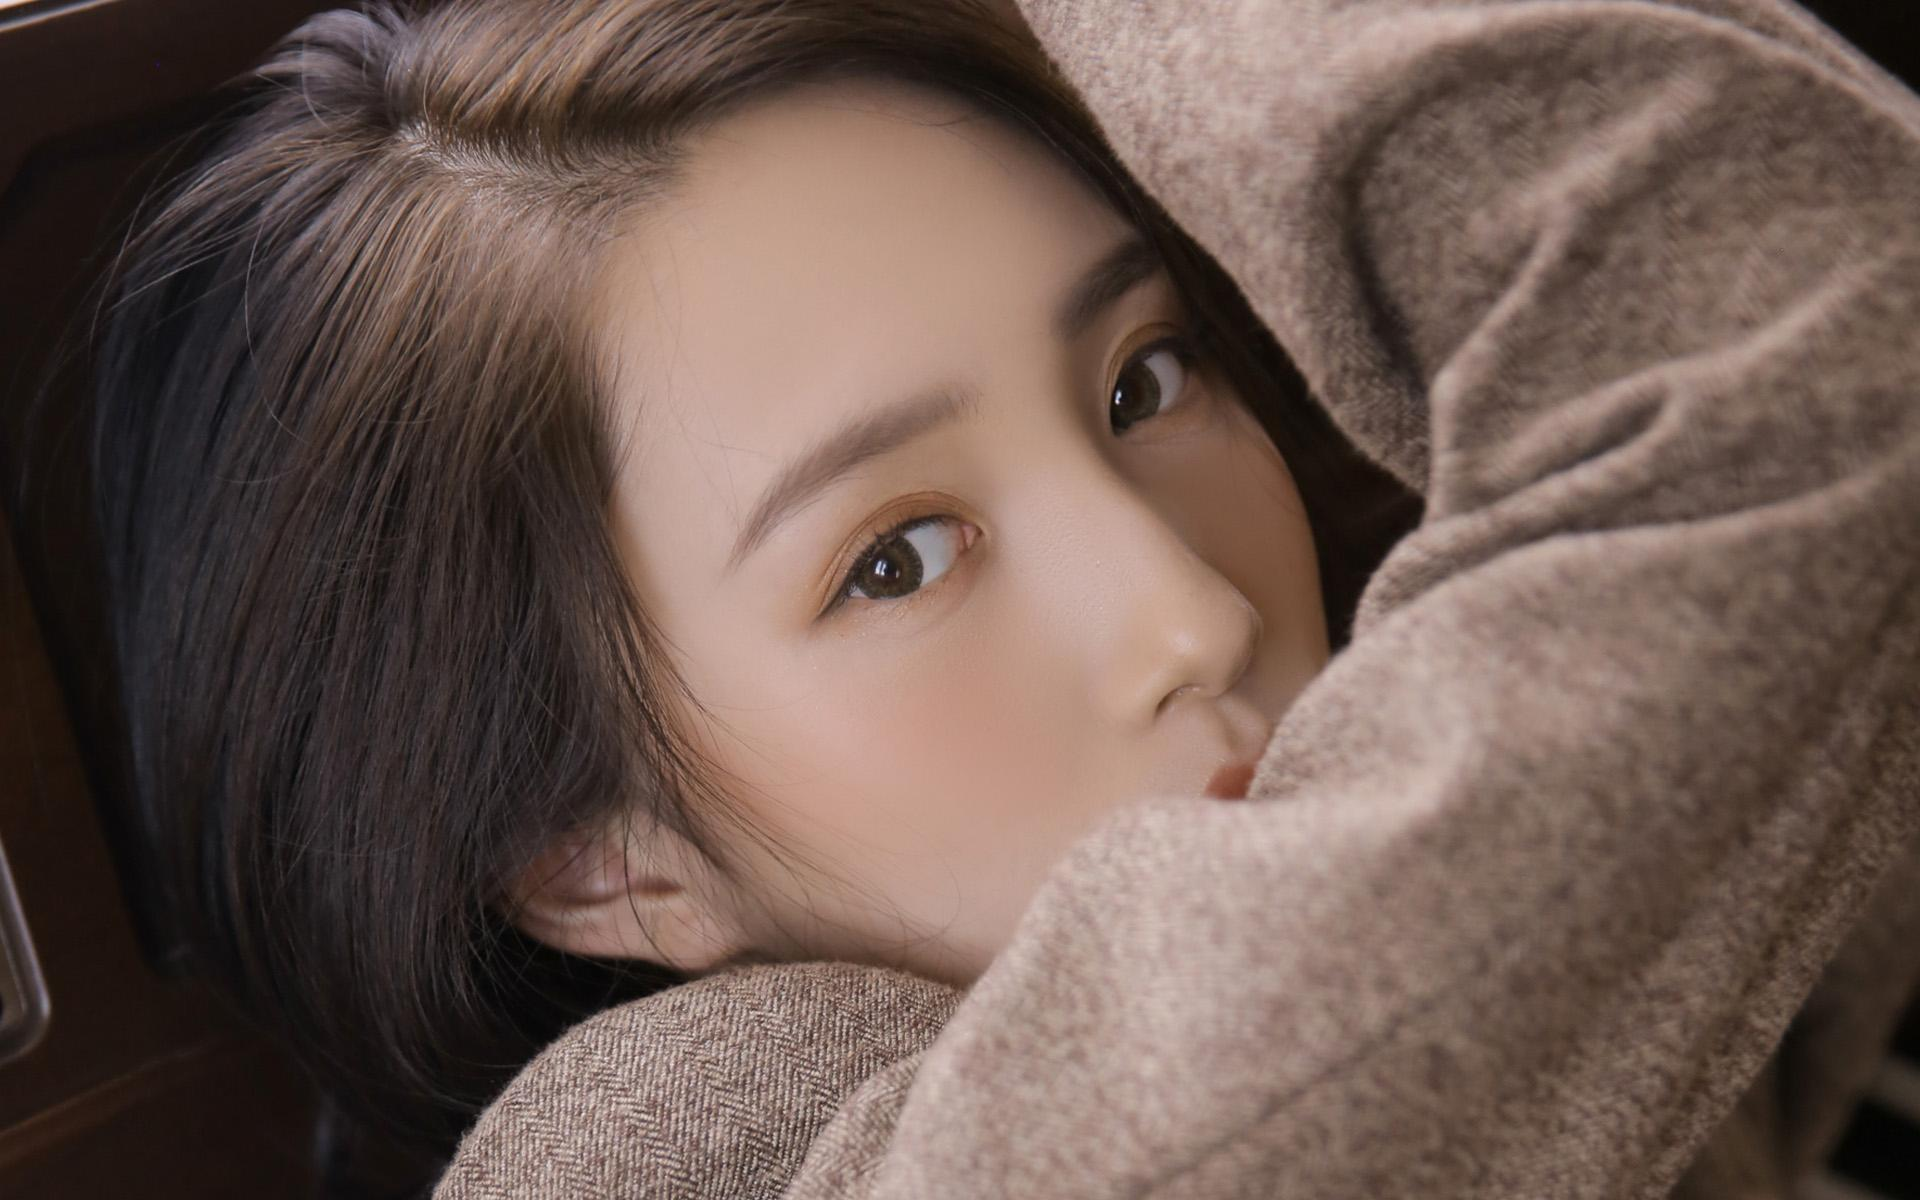person: (179, 54, 1302, 1005)
